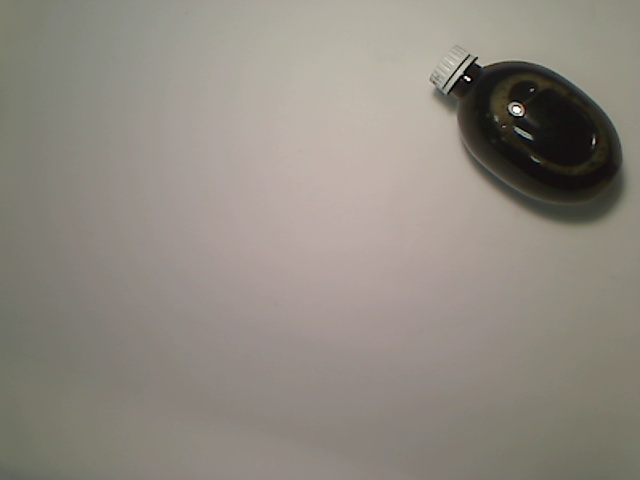plast_bottle: (428, 43, 626, 210)
